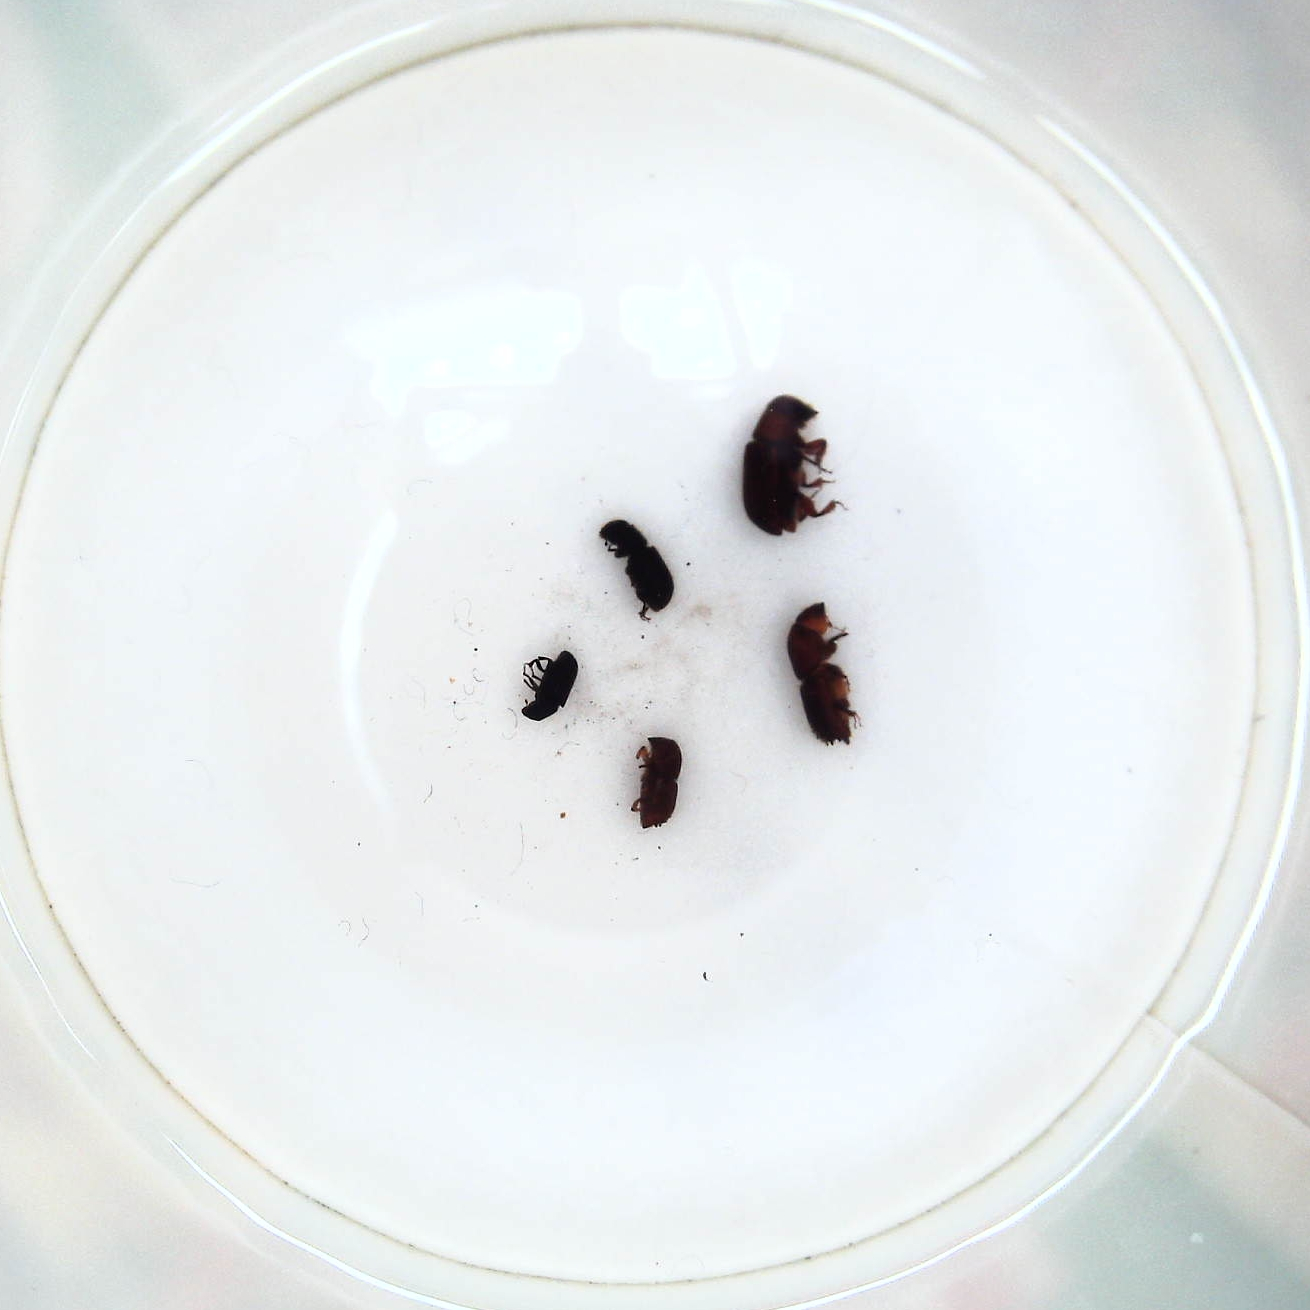Boerner: (782, 596, 863, 752)
Leconte: (738, 389, 843, 542)
armandi: (596, 513, 677, 620)
coleoptera: (513, 650, 584, 723)
linnaeus: (627, 733, 689, 837)
